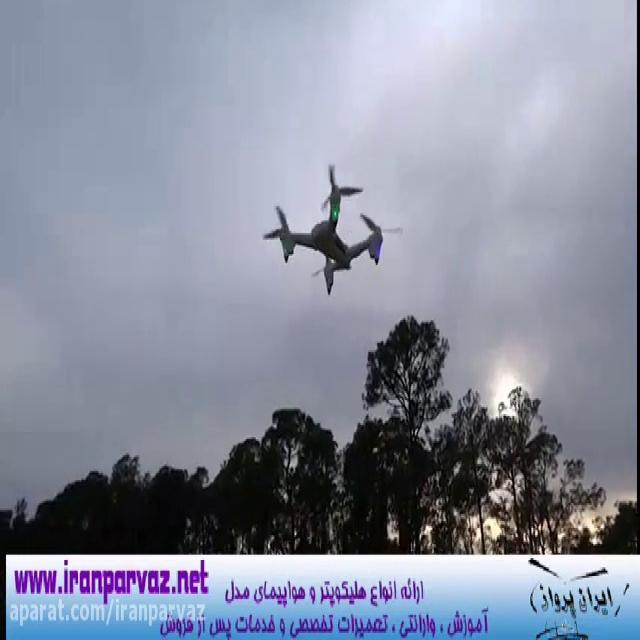drone: (258, 158, 406, 300)
